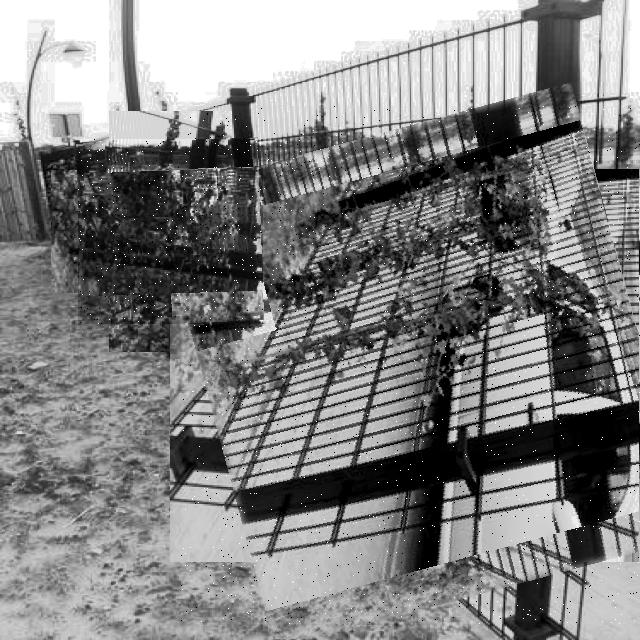fences: (181, 106, 640, 624), (78, 139, 263, 324)
